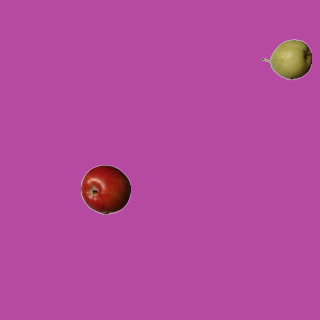Apple Braeburn: (80, 164, 130, 214)
Pear: (261, 34, 311, 84)
